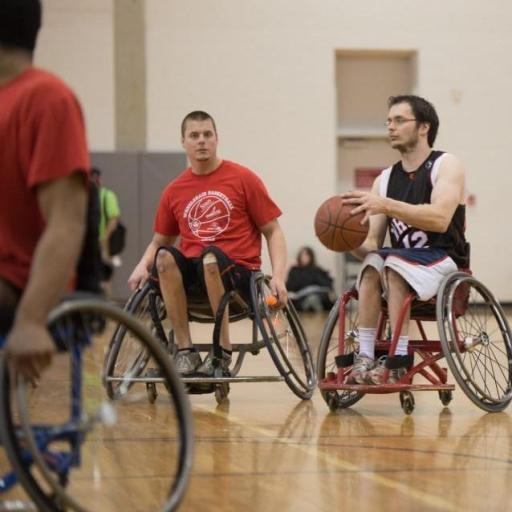person: (129, 111, 287, 374), (344, 95, 468, 383), (0, 0, 89, 379), (91, 168, 120, 288), (286, 247, 333, 312)
